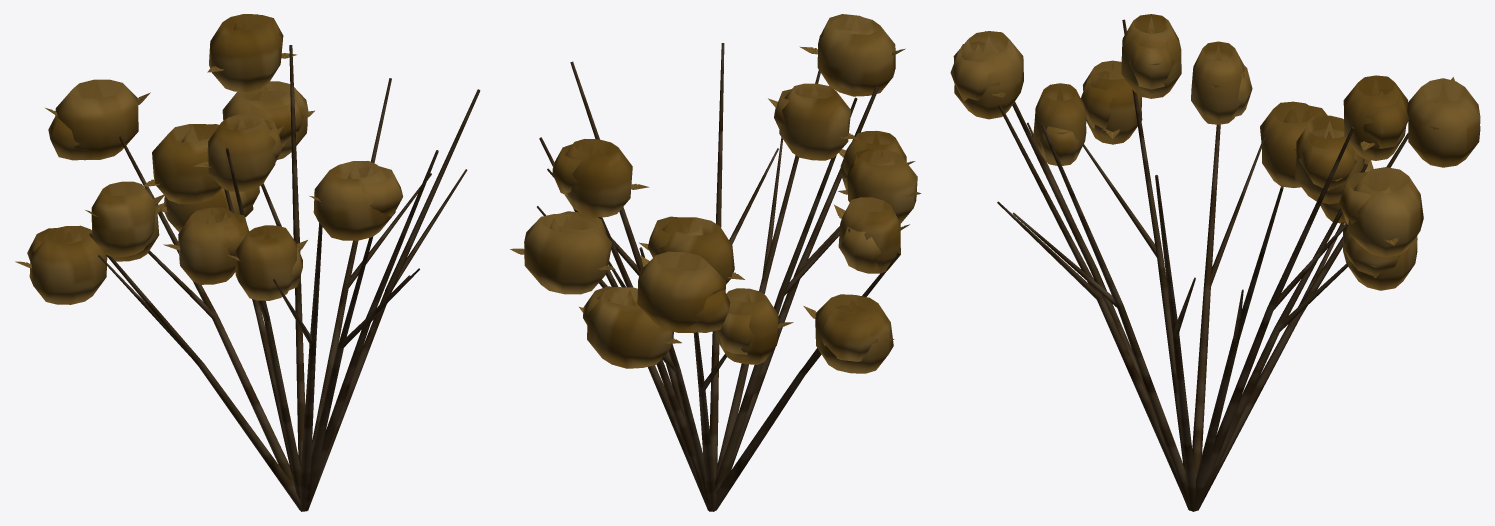
File: filbert_dry03-lod0.glb
3 views of the same model, side by side, from view 1: azimuth 30°, elevation 25°; view 2: azimuth 150°, elevation 25°; view 3: azimuth 270°, elevation 25° (orthographic). The views are drawn at different scales.
Visible parts, largest first — view 1: TZ_filbert_shrub_Batch_00_LOD0, TZ_filbert_shrub_Batch_02_LOD0, TZ_filbert_shrub_Batch_01_LOD0; view 2: TZ_filbert_shrub_Batch_00_LOD0, TZ_filbert_shrub_Batch_02_LOD0, TZ_filbert_shrub_Batch_01_LOD0; view 3: TZ_filbert_shrub_Batch_00_LOD0, TZ_filbert_shrub_Batch_02_LOD0.
Part boxes in pixels (bbox=[...]): TZ_filbert_shrub_Batch_00_LOD0: bbox=[27, 14, 403, 304]; TZ_filbert_shrub_Batch_02_LOD0: bbox=[89, 45, 480, 511]; TZ_filbert_shrub_Batch_01_LOD0: bbox=[15, 53, 322, 268]; TZ_filbert_shrub_Batch_00_LOD0: bbox=[524, 14, 917, 373]; TZ_filbert_shrub_Batch_02_LOD0: bbox=[537, 43, 900, 511]; TZ_filbert_shrub_Batch_01_LOD0: bbox=[510, 46, 921, 343]; TZ_filbert_shrub_Batch_00_LOD0: bbox=[950, 14, 1480, 290]; TZ_filbert_shrub_Batch_02_LOD0: bbox=[997, 19, 1408, 511].
Bounding box in the file's own units: 1.61 × 1.65 × 1.75.
Materials: 3 (3 with a texture image).
